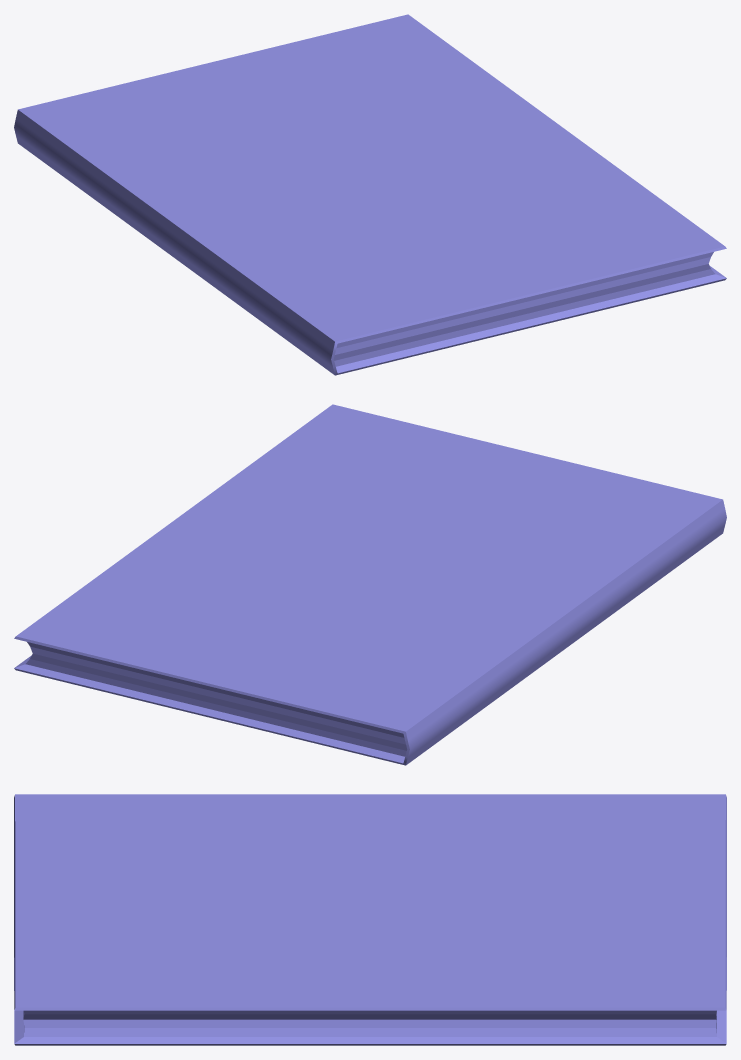
Rendered from Libro_.fbx.
3 views of the same model, one above another, from view 1: azimuth 30°, elevation 25°; view 2: azimuth 150°, elevation 25°; view 3: azimuth 270°, elevation 25° (orthographic). The views are drawn at different scales.
Visible parts, largest first — view 1: Libro_1; view 2: Libro_1; view 3: Libro_1.
Part boxes in pixels (x1,y1,x2,y2): Libro_1: (14,14,726,375); Libro_1: (14,404,726,765); Libro_1: (14,794,726,1045).
Bounding box in the file's own units: 0.2799 × 0.0229 × 0.3902.
